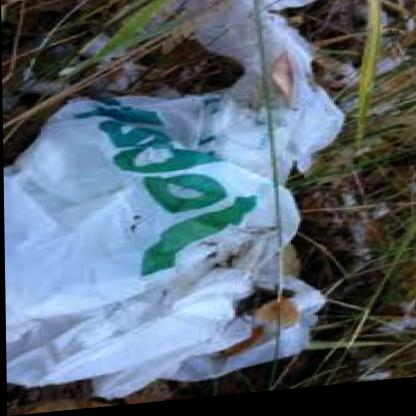Plastic: (0, 0, 391, 405)
